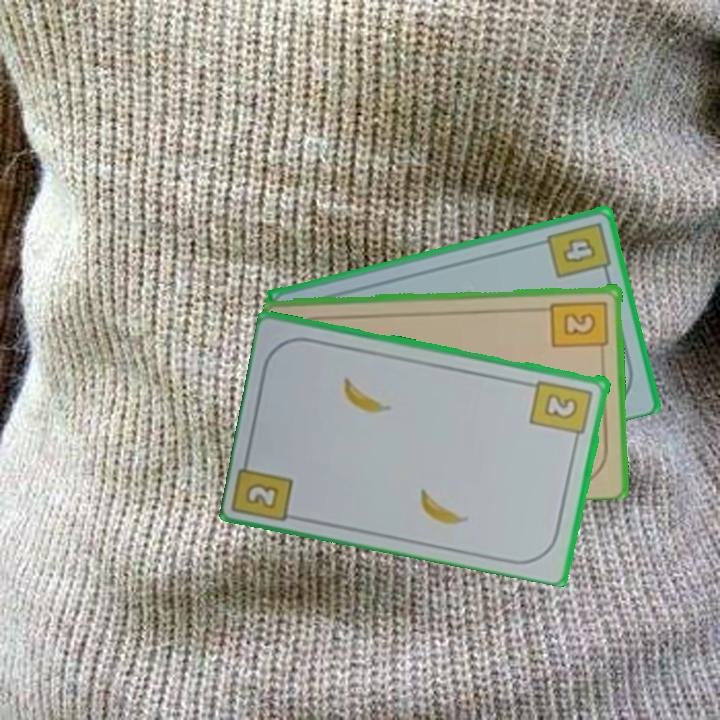2b: (528, 376, 596, 446), (549, 297, 611, 358), (242, 479, 282, 512)
4b: (543, 218, 613, 281)
